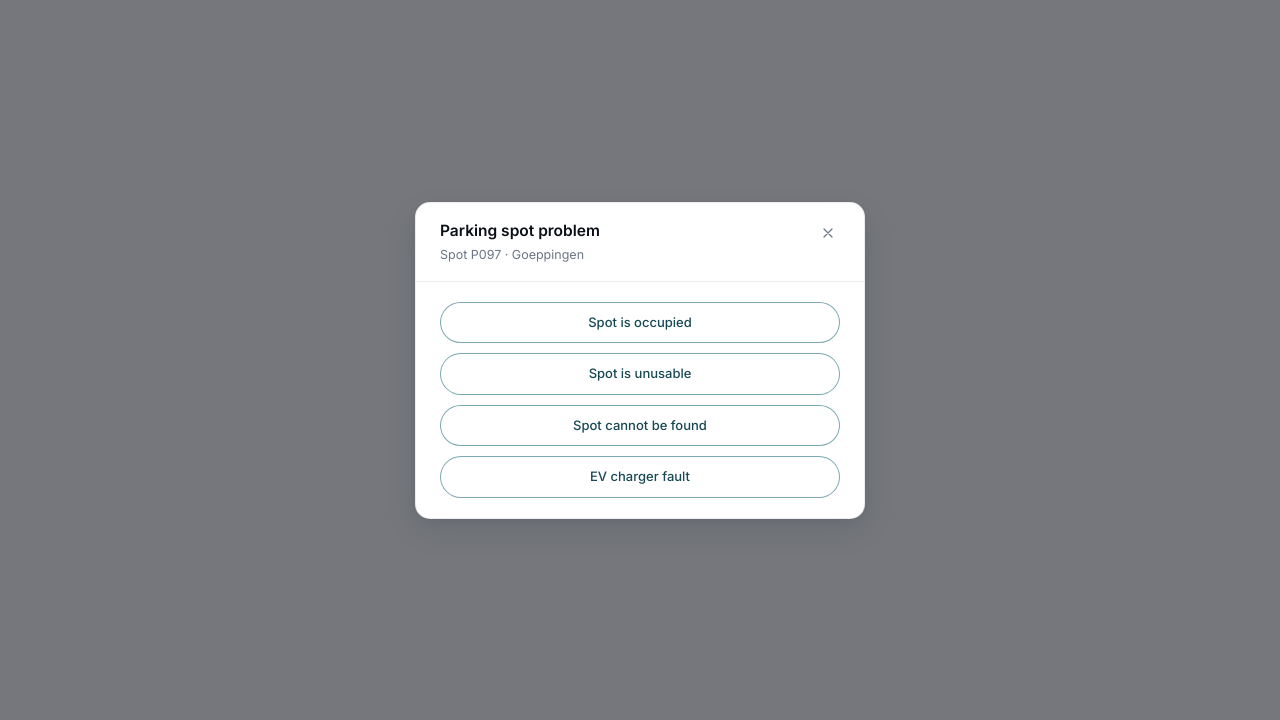
Test: SlotProblemModal › sends no plate for other problems and shows server errors inline
Click the button "EV charger fault": point(640, 477) [440,456,840,498]
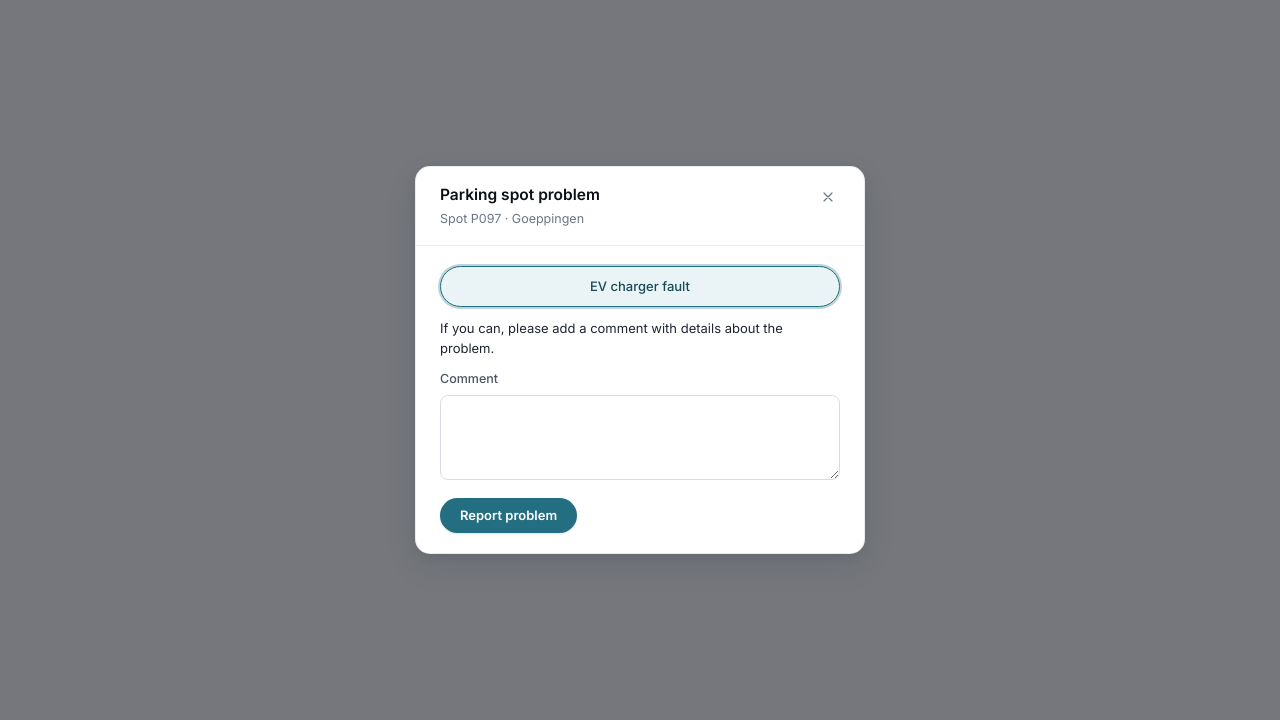
Click the button "Report problem": point(509, 516) [440,498,577,533]
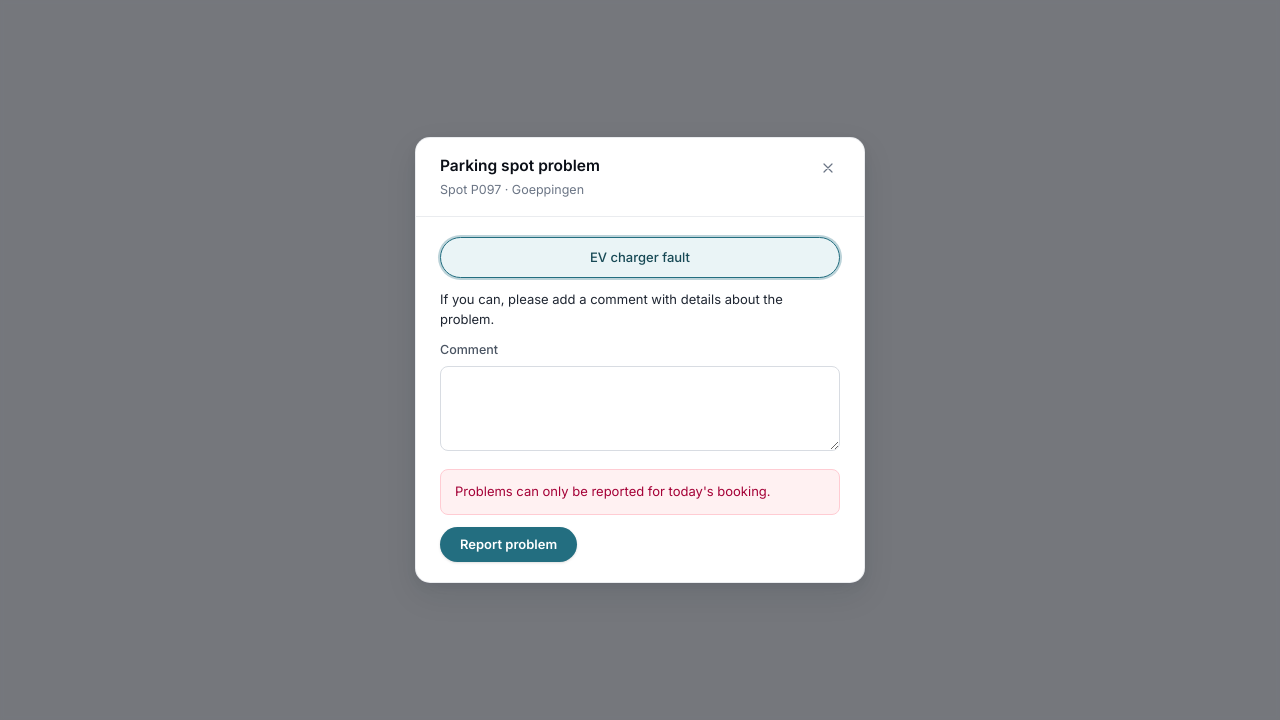
Check: the text "Problems can only be reported for today's booking." is shown, box [440,469,840,515]
